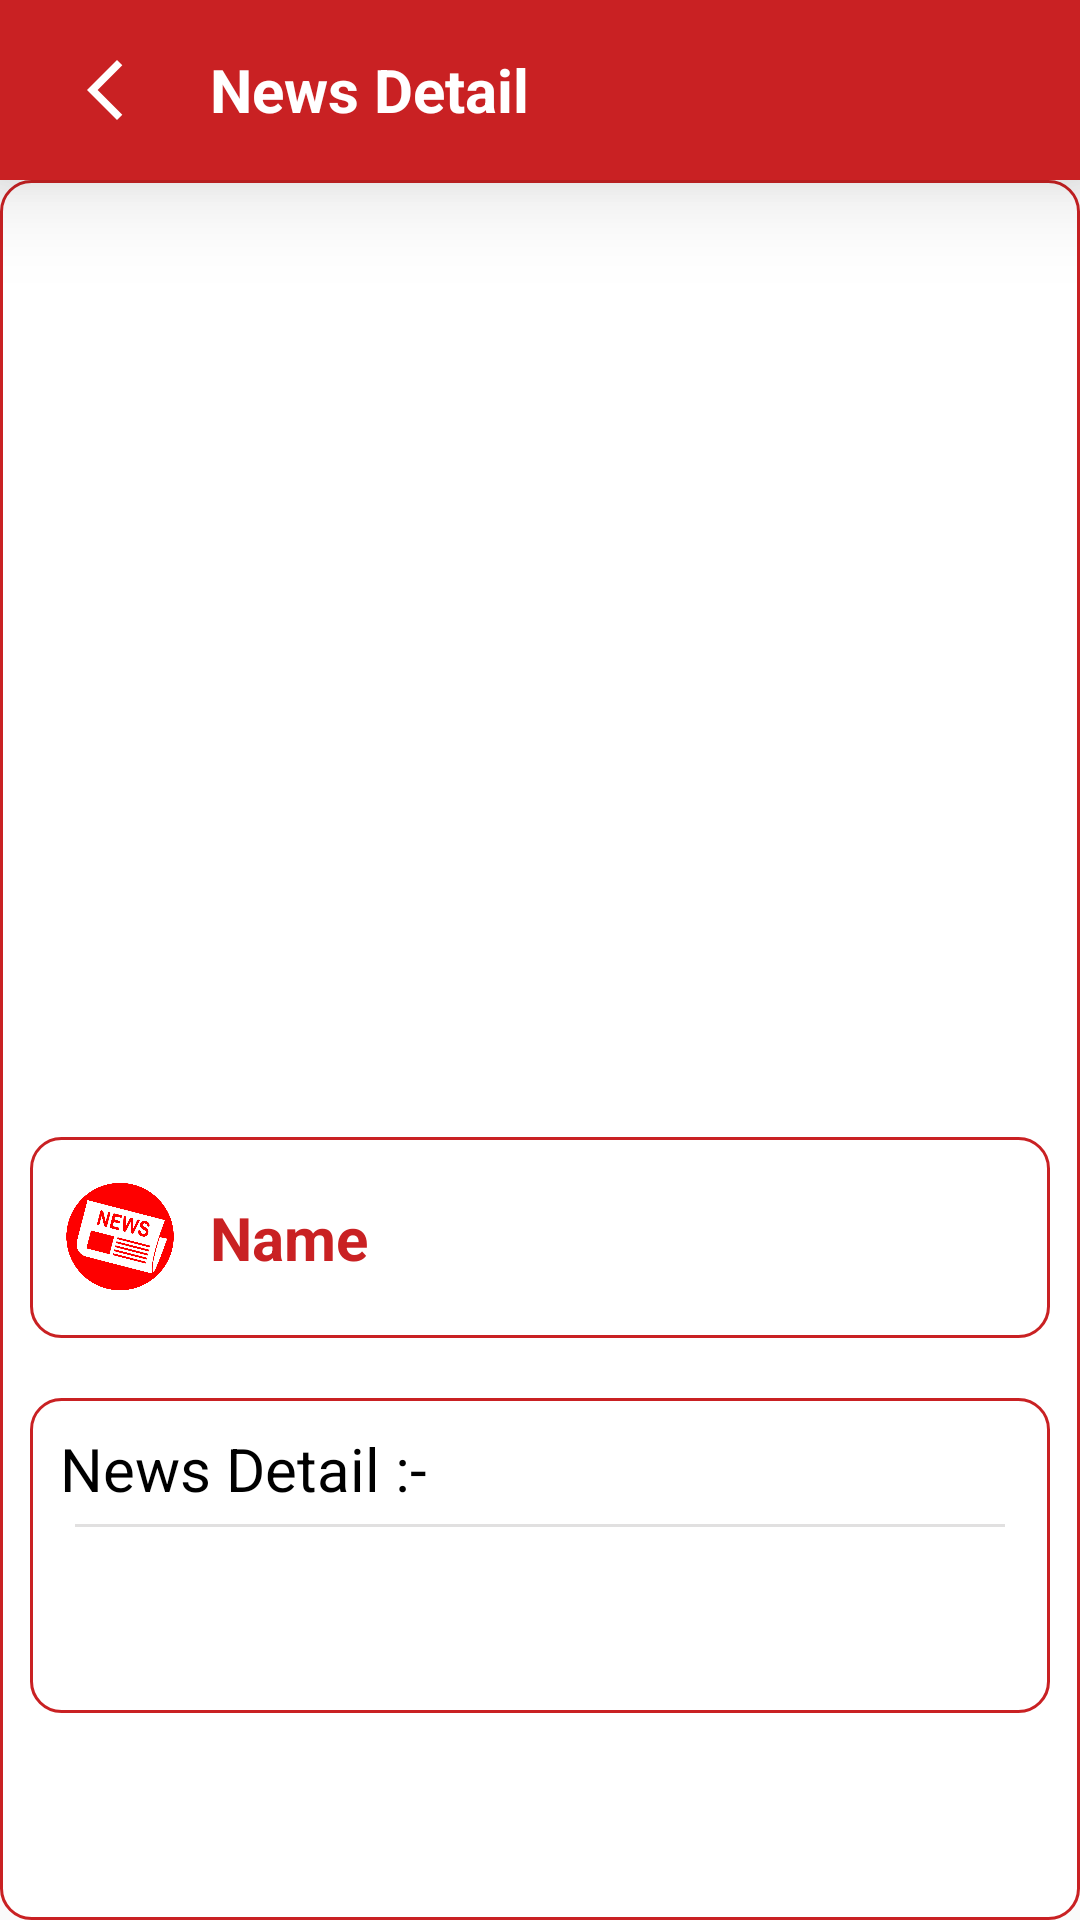

Where icons sit on this 1080x1920 app screen, as rect(x1, y1, x2, y2):
arrow back: rect(87, 60, 122, 120)
newsicon: rect(66, 1183, 174, 1290)
